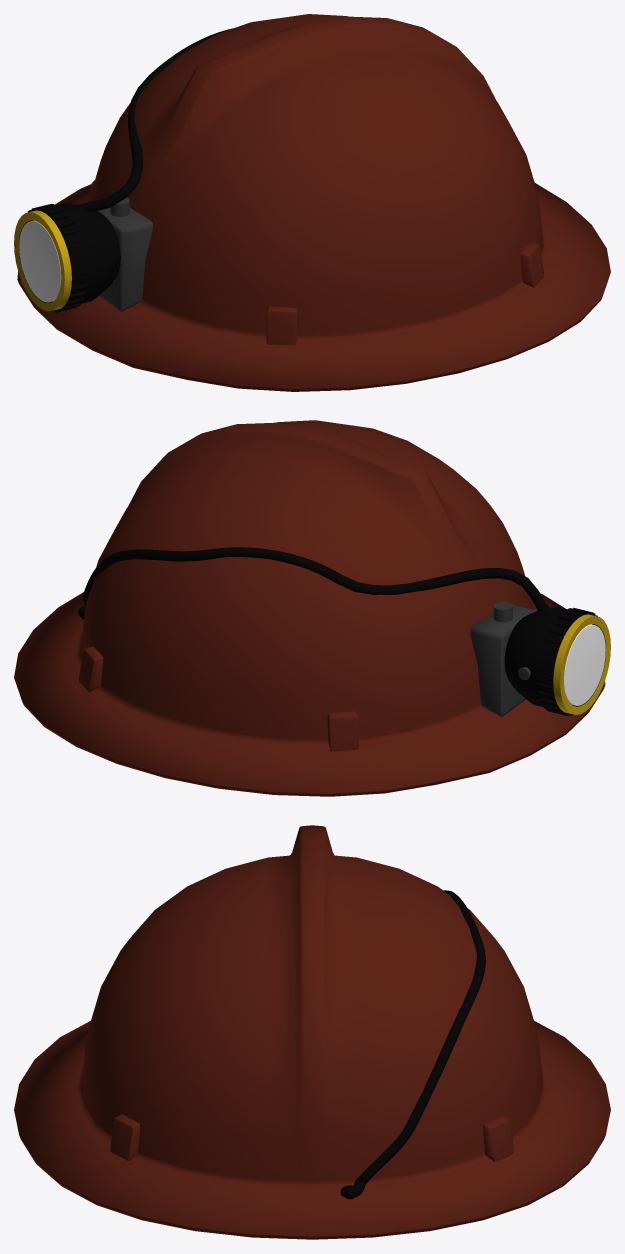
The model's file is cascominero.glb.
3 renders of one model, top to bottom at view 1: azimuth 30°, elevation 25°; view 2: azimuth 150°, elevation 25°; view 3: azimuth 270°, elevation 25°, orthographic. The views are drawn at different scales.
Visible parts, largest first — view 1: Cube.006, Cylinder.001, BézierCurve; view 2: Cube.006, Cylinder.001, BézierCurve; view 3: Cube.006, BézierCurve.
Part boxes in pixels (x1,y1,x2,y2): Cube.006: (17, 14, 610, 391); Cylinder.001: (14, 203, 120, 312); BézierCurve: (73, 28, 232, 212); Cube.006: (14, 420, 605, 796); Cylinder.001: (504, 606, 610, 715); BézierCurve: (78, 547, 552, 619); Cube.006: (14, 825, 610, 1239); BézierCurve: (340, 890, 485, 1199).
Bounding box in the file's own units: 2.28 × 1 × 2.17.
